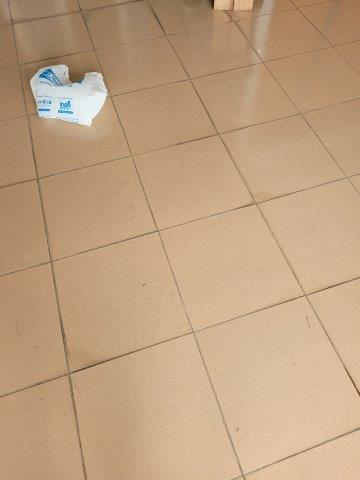plastik: (25, 62, 108, 131)
